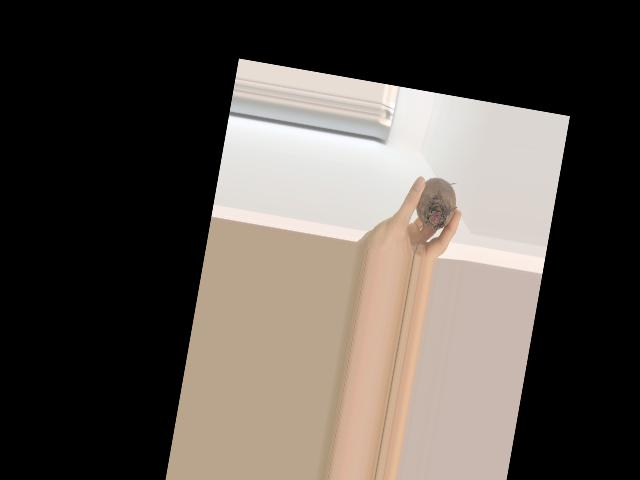beet: (407, 174, 461, 261)
